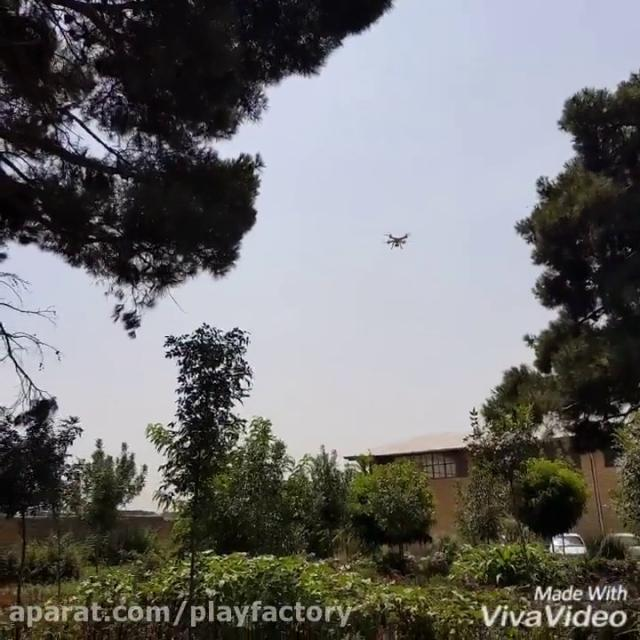drone: (382, 228, 415, 251)
